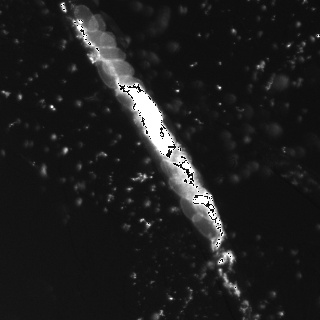embryo: (162, 162, 200, 187), (191, 213, 218, 240), (169, 177, 198, 200), (191, 195, 217, 220), (74, 5, 98, 32), (96, 60, 118, 89), (180, 197, 204, 221), (86, 30, 115, 49), (104, 59, 134, 76), (96, 46, 127, 62), (116, 90, 138, 112), (118, 76, 146, 93), (89, 14, 105, 40)
